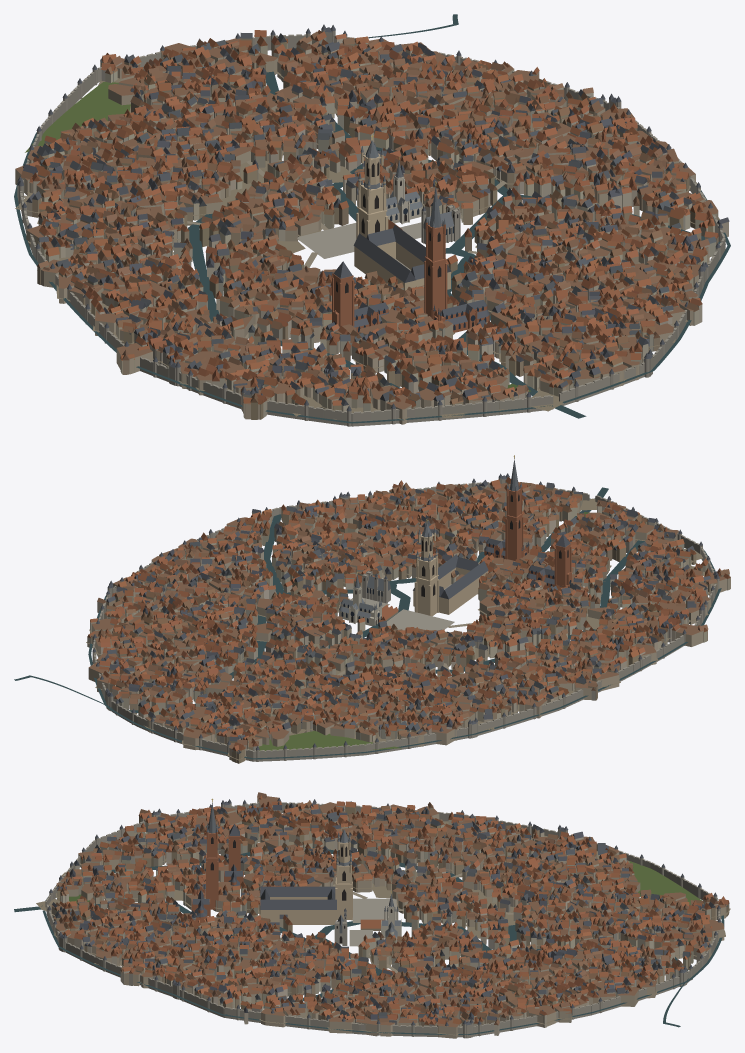
Rendered from bruges.glb.
3 views of the same model, one above another, from view 1: azimuth 30°, elevation 25°; view 2: azimuth 150°, elevation 25°; view 3: azimuth 270°, elevation 25° (orthographic). The views are drawn at different scales.
Parts seen in each view (by area): view 1: houses, blocks, landmarks, ground, belfort, stadhuis, belfort__octogone; view 2: houses, blocks, landmarks, ground, belfort, stadhuis; view 3: houses, blocks, landmarks, ground, belfort, belfort__octogone.
Part boxes in pixels (box(x1,y1,x2,y2)): houses: box(21, 30, 729, 419); blocks: box(15, 38, 718, 424); landmarks: box(14, 24, 730, 426); ground: box(15, 14, 725, 419); belfort: box(353, 180, 451, 290); stadhuis: box(421, 204, 460, 244); belfort__octogone: box(358, 134, 385, 187); houses: box(87, 477, 730, 763); blocks: box(88, 481, 730, 760); landmarks: box(88, 455, 721, 761); ground: box(14, 487, 714, 760); belfort: box(413, 554, 488, 616); stadhuis: box(362, 570, 391, 603); houses: box(52, 792, 729, 1035); blocks: box(51, 796, 726, 1038); landmarks: box(41, 798, 724, 1038); ground: box(14, 812, 730, 1035); belfort: box(260, 858, 352, 924); belfort__octogone: box(336, 825, 351, 863).
Bounding box in the file's own units: 8.38 × 1.85 × 10.88.
